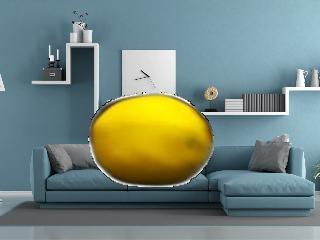lemon: (94, 96, 214, 186)
